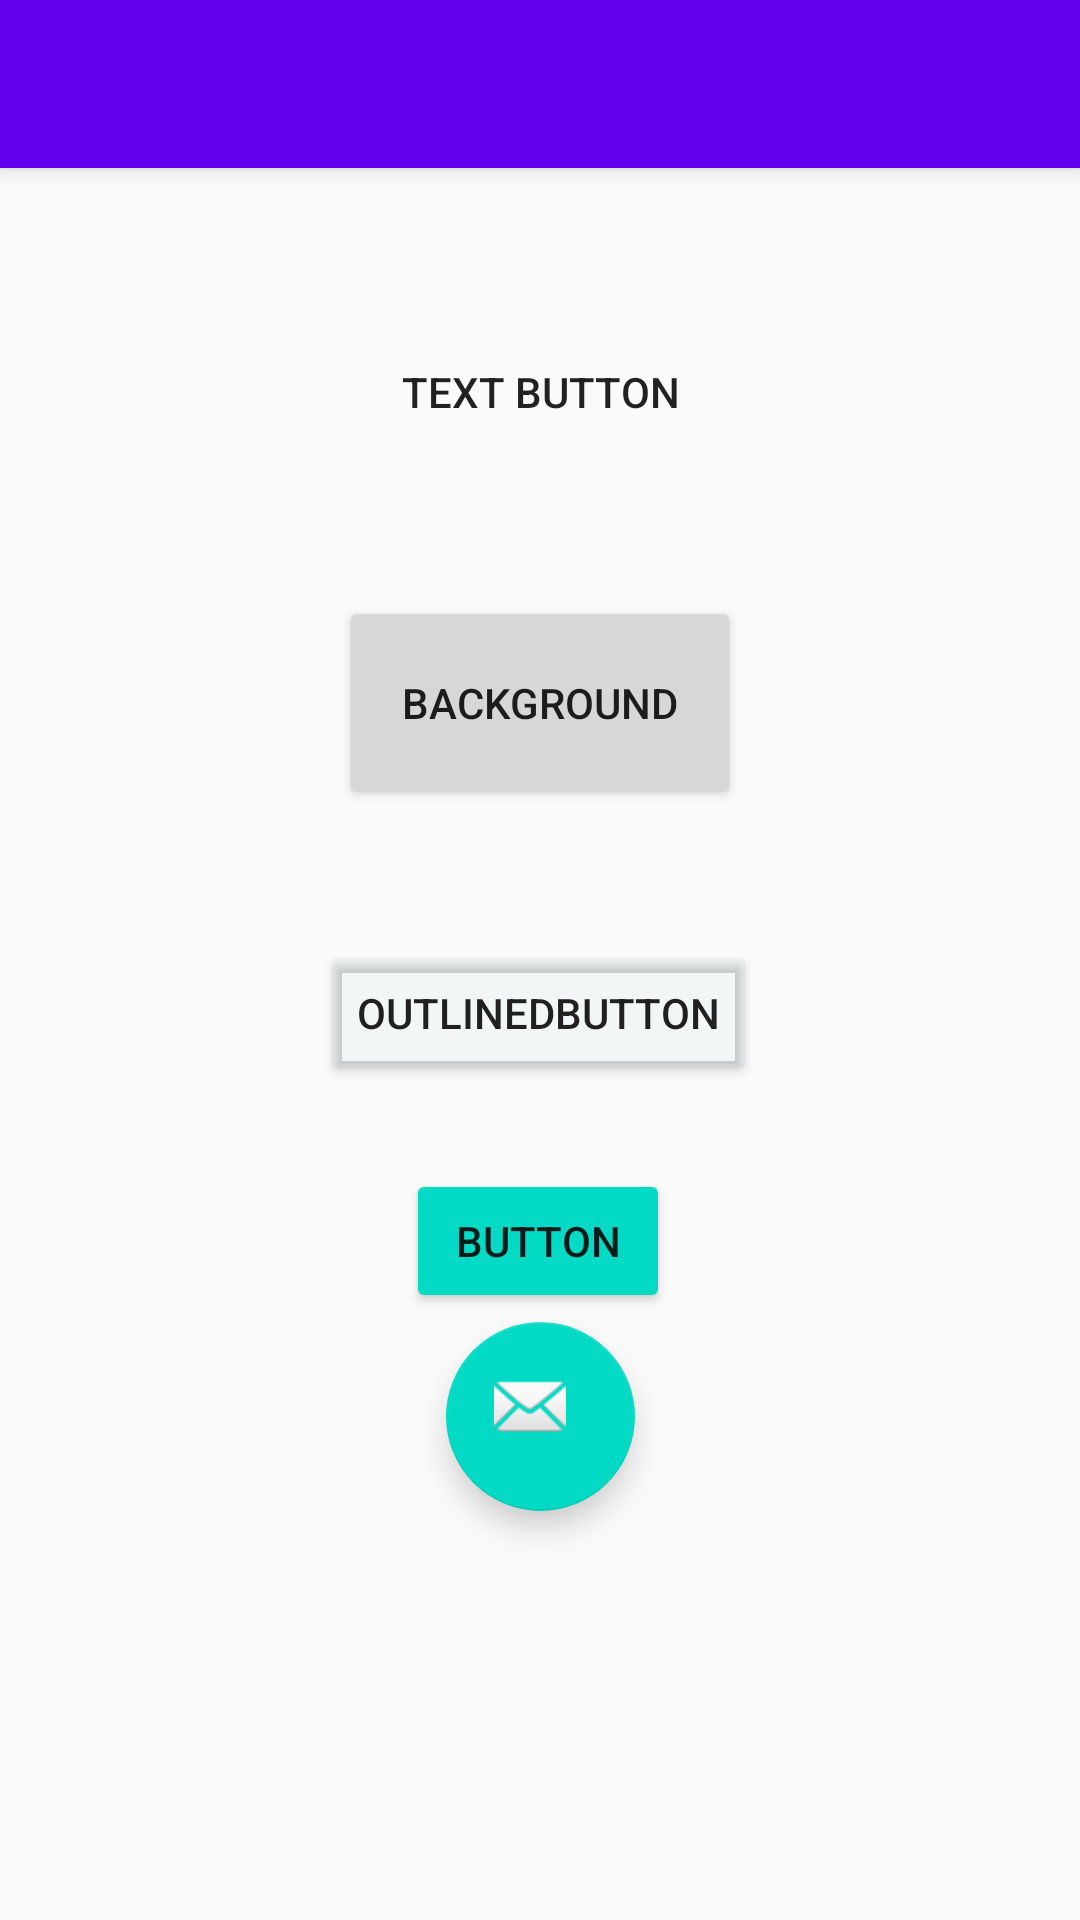

Icon click points for this 1080 x 1920 phone screenshot, format (x=x, y=y):
email: (x=540, y=1416)
